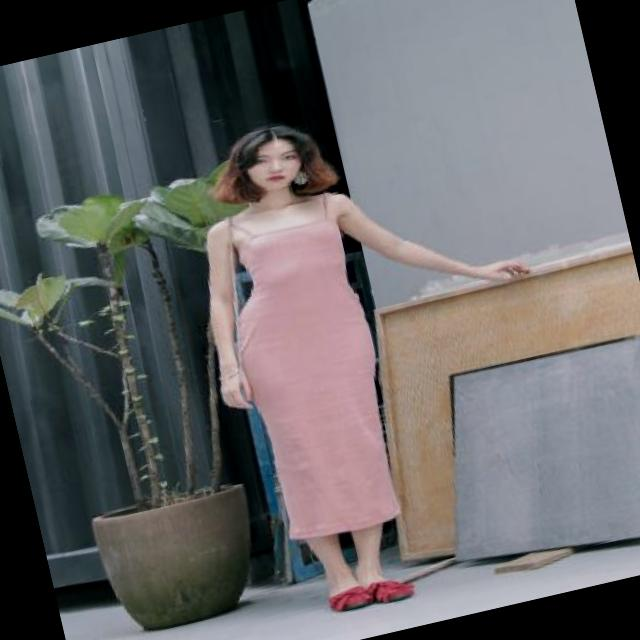Person: (158, 93, 472, 628)
